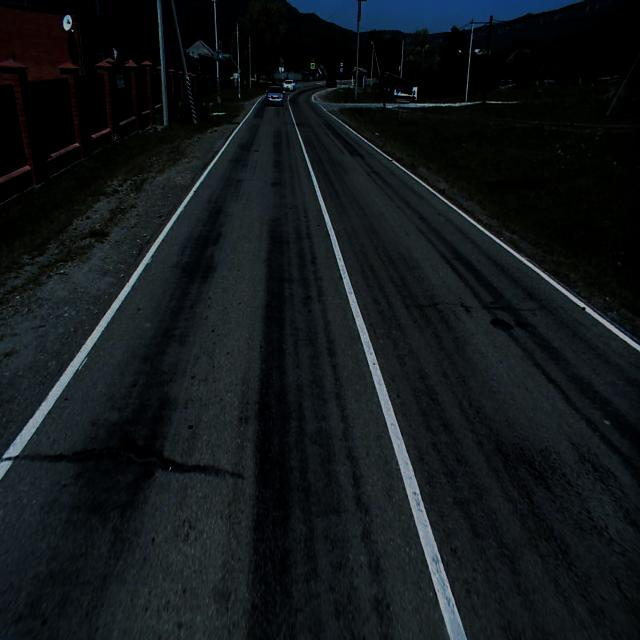road: (0, 81, 640, 639), (336, 80, 352, 86)
